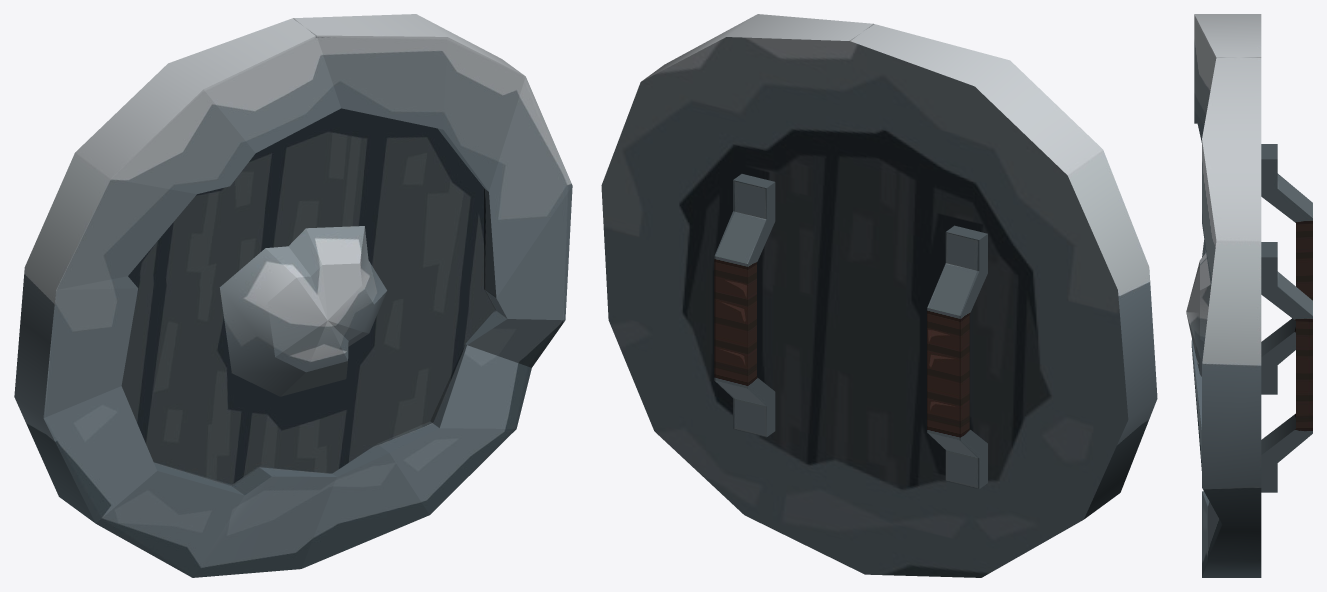
The model's file is Stone_05.FBX.
3 renders of one model, left to right at view 1: azimuth 30°, elevation 25°; view 2: azimuth 150°, elevation 25°; view 3: azimuth 270°, elevation 25°, orthographic. The views are drawn at different scales.
Parts seen in each view (by area): view 1: Stone_05; view 2: Stone_05; view 3: Stone_05.
Part boxes in pixels (bbox=[...]): Stone_05: bbox=[14, 14, 572, 577]; Stone_05: bbox=[601, 14, 1157, 577]; Stone_05: bbox=[1186, 14, 1312, 577].
Size of the model in its own units: 53.1 by 51.02 by 11.71.
